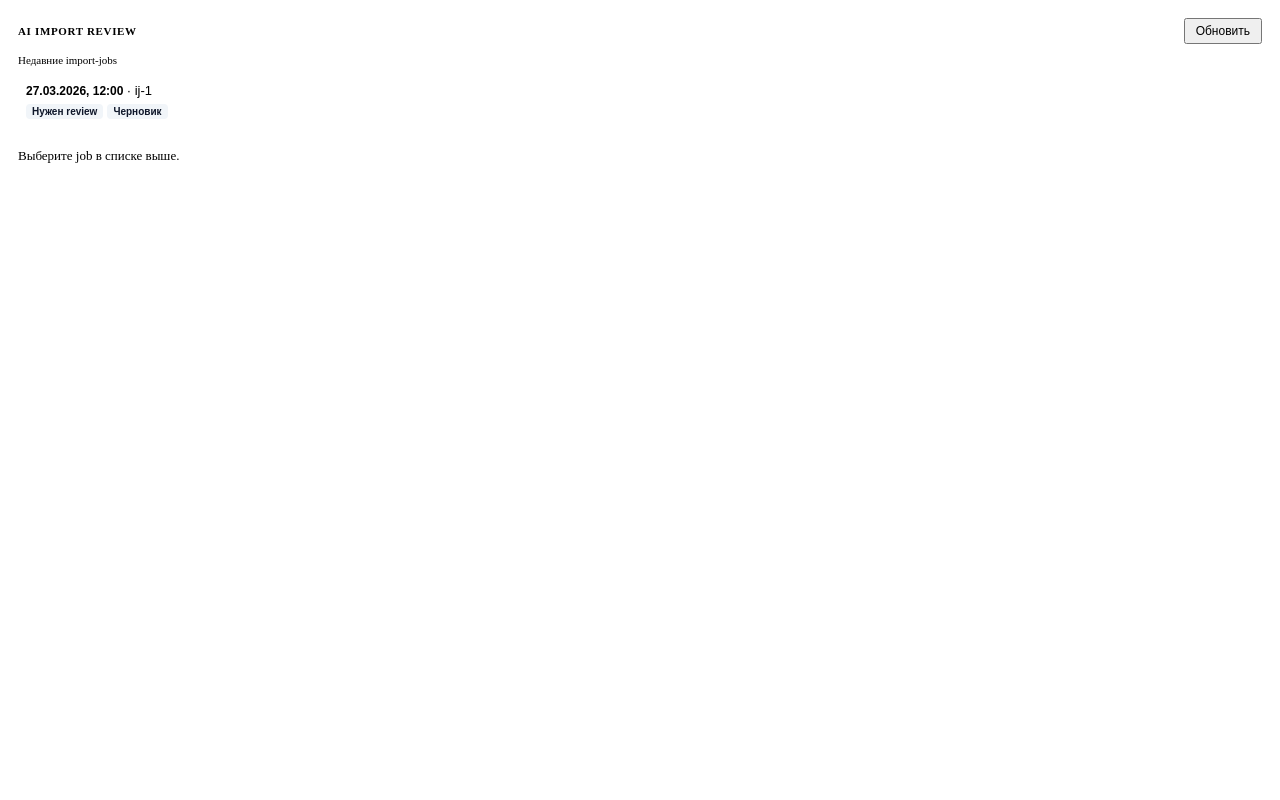
ImportReviewPanel integration › loads jobs list and opens selected job
The image size is (1280, 800).
Click the button with test id "ir-job-row-ij-1": (75, 90) [18,74,1262,129]
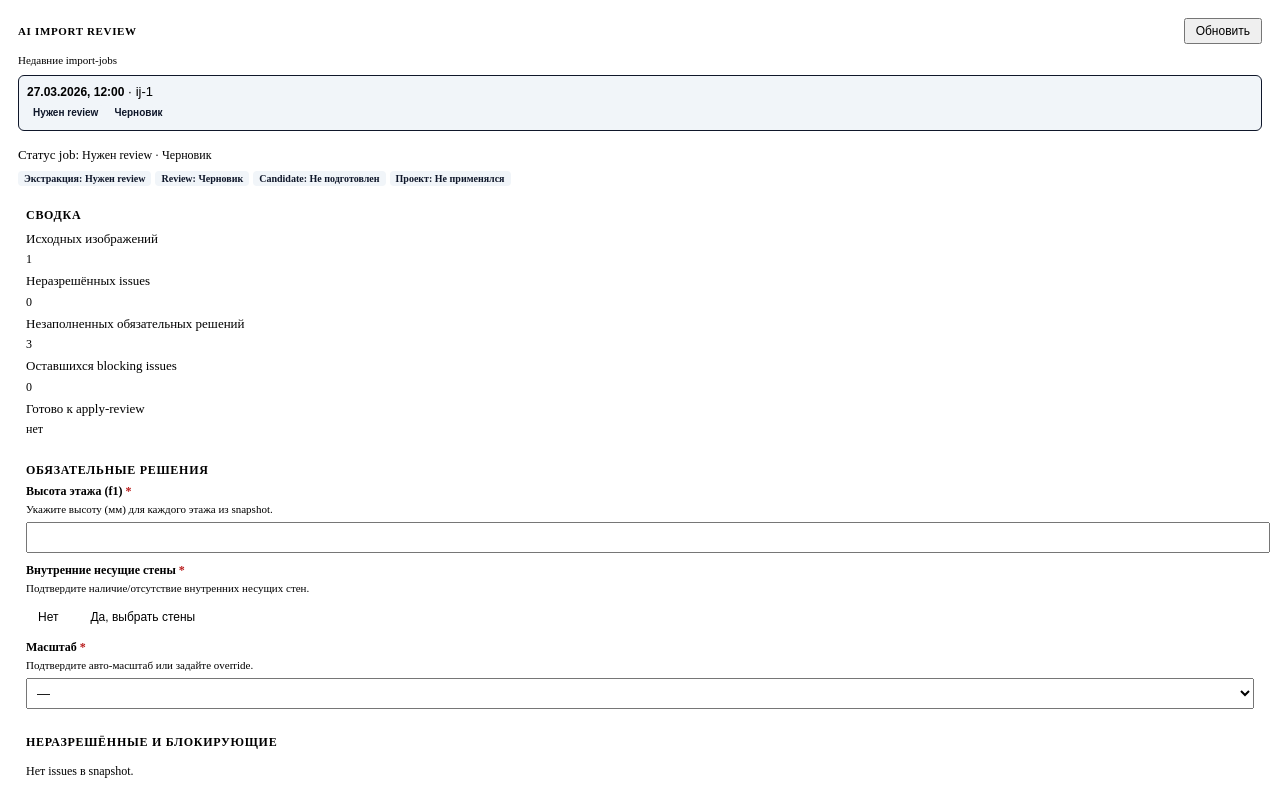
Expected: the text "Сводка" is shown, [26,208,81,222]
